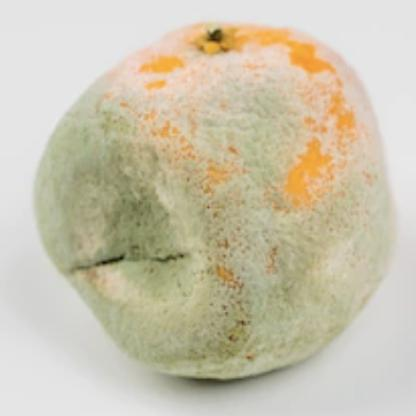rotten: (36, 24, 398, 383)
